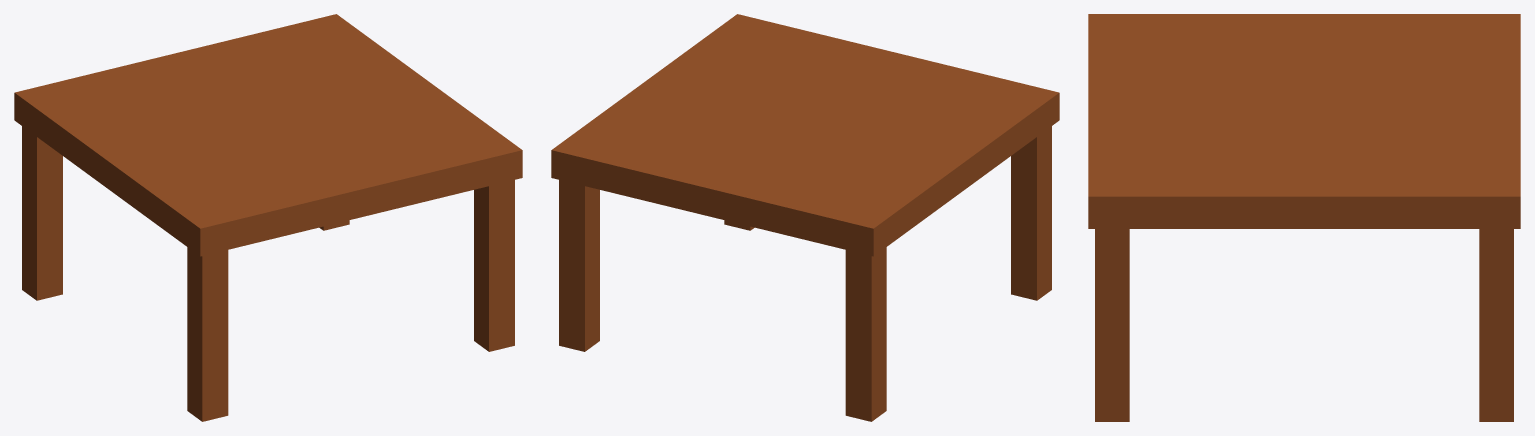
File: table3.fbx
3 renders of one model, left to right at view 1: azimuth 30°, elevation 25°; view 2: azimuth 150°, elevation 25°; view 3: azimuth 270°, elevation 25°, orthographic. The views are drawn at different scales.
Visible parts, largest first — view 1: Cube.002; view 2: Cube.002; view 3: Cube.002.
Boxes of the visible parts, box(x1,y1,x2,y2) form: Cube.002: box(14, 14, 522, 421); Cube.002: box(551, 14, 1059, 421); Cube.002: box(1088, 14, 1520, 421).
Bounding box in the file's own units: 200 × 117 × 200.
Materials: 1 (1 with a texture image).
